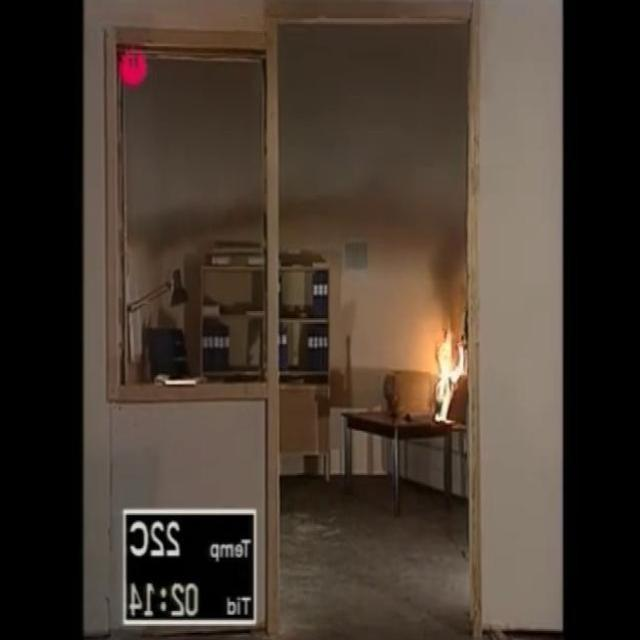fire: (281, 30, 466, 254), (128, 68, 260, 249)
smoke: (431, 322, 469, 432)
